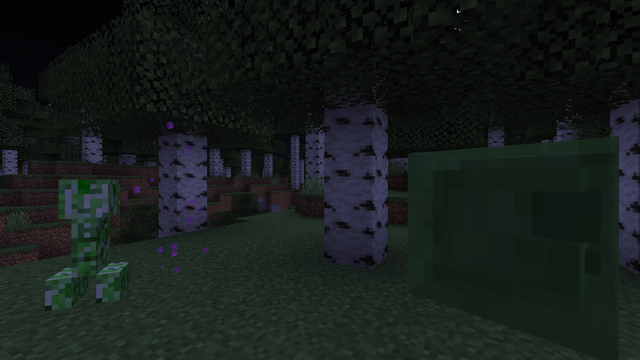creepers: (54, 173, 127, 312)
slimes: (419, 132, 638, 347)
